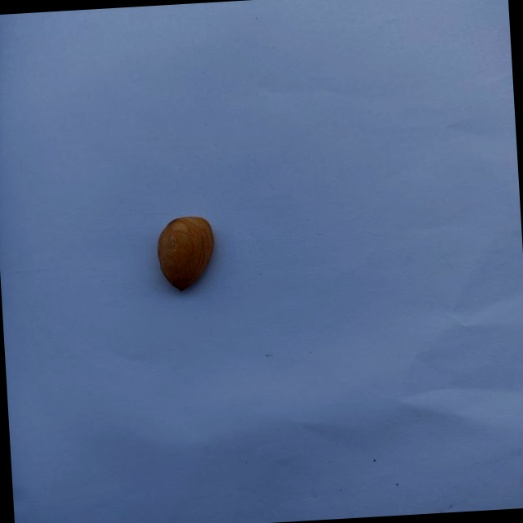grade2: (153, 212, 223, 295)
